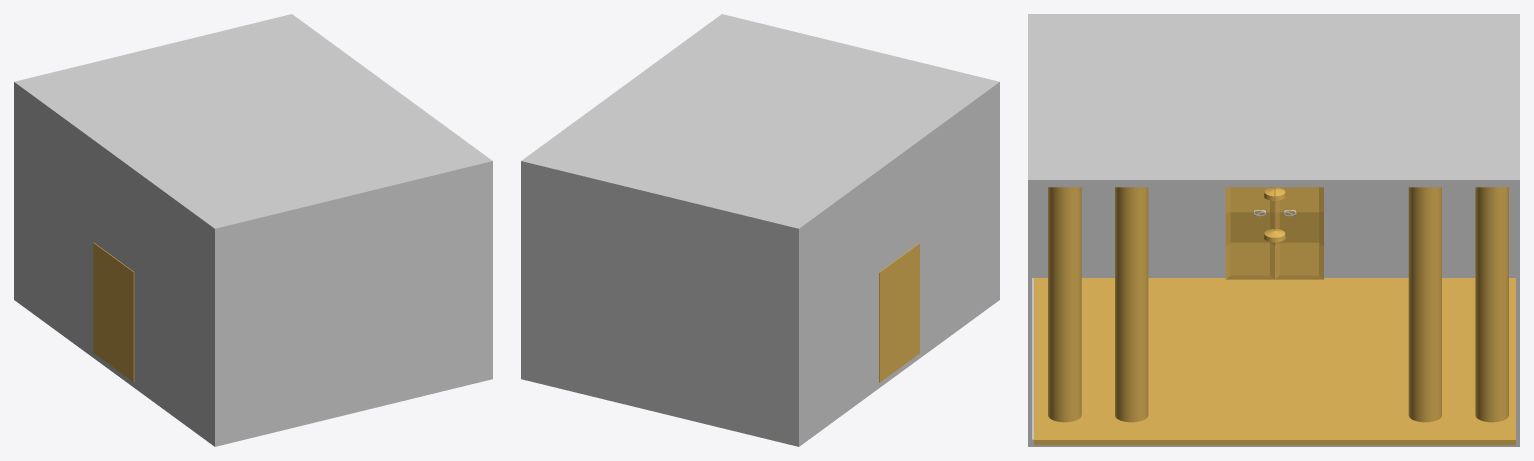
File: asset_entrace.fbx
3 views of the same model, side by side, from view 1: azimuth 30°, elevation 25°; view 2: azimuth 150°, elevation 25°; view 3: azimuth 270°, elevation 25° (orthographic). The views are drawn at different scales.
Visible parts, largest first — view 1: walls, Cube.001; view 2: walls, Cube.001; view 3: walls, Cube, Cylinder, Cube.001.
Part boxes in pixels (bbox=[...]): walls: bbox=[14, 14, 492, 446]; Cube.001: bbox=[93, 242, 134, 382]; walls: bbox=[521, 14, 999, 446]; Cube.001: bbox=[879, 243, 919, 382]; walls: bbox=[1028, 14, 1519, 446]; Cube: bbox=[1034, 278, 1515, 445]; Cylinder: bbox=[1048, 187, 1508, 422]; Cube.001: bbox=[1225, 187, 1323, 279].
Size of the model in its own units: 803 by 600 by 1001.
